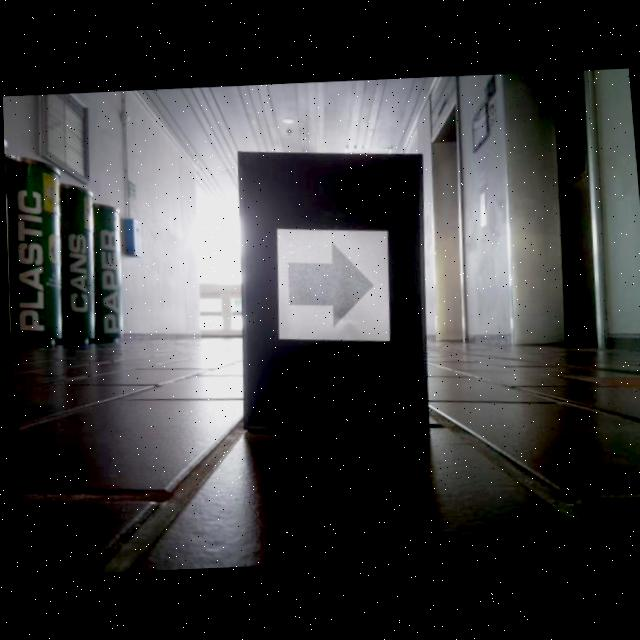RIGHT: (286, 240, 374, 327)
